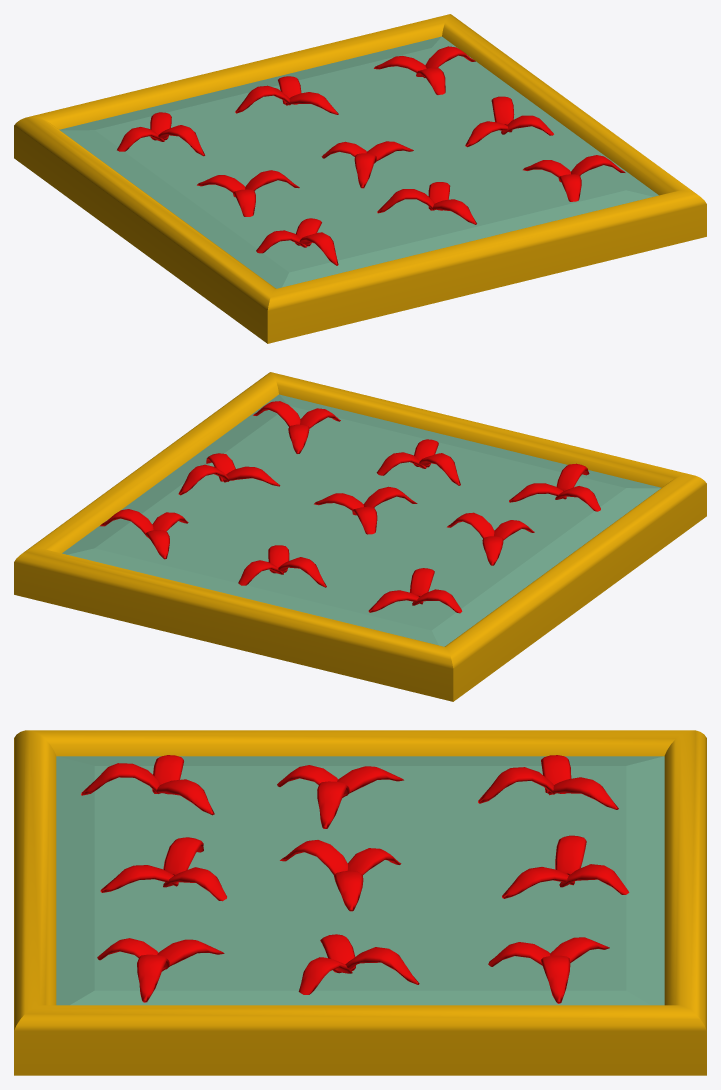
The model's file is Stage_2.fbx.
3 views of the same model, one above another, from view 1: azimuth 30°, elevation 25°; view 2: azimuth 150°, elevation 25°; view 3: azimuth 270°, elevation 25° (orthographic). The views are drawn at different scales.
Parts seen in each view (by area): view 1: Carrot_Dirt_Stage_2, Carrot_Bed_Stage_2, Leaf_3 (×9), Leaf_1 (×2); view 2: Carrot_Dirt_Stage_2, Carrot_Bed_Stage_2, Leaf_3 (×9), Leaf_1 (×3); view 3: Carrot_Dirt_Stage_2, Carrot_Bed_Stage_2, Leaf_3 (×9), Leaf_1 (×9), Leaf_2 (×9).
Part boxes in pixels (x1,y1,x2,y2): Carrot_Dirt_Stage_2: (59,36,658,288); Carrot_Bed_Stage_2: (14,14,706,343); Leaf_3 (×9): (158,46,625,265); Leaf_1 (×2): (285,92,476,224); Carrot_Dirt_Stage_2: (62,394,661,646); Carrot_Bed_Stage_2: (14,372,706,701); Leaf_3 (×9): (100,401,589,596); Leaf_1 (×3): (223,466,566,612); Carrot_Dirt_Stage_2: (56,756,664,1005); Carrot_Bed_Stage_2: (14,730,706,1075); Leaf_3 (×9): (81,763,586,1003); Leaf_1 (×9): (100,766,618,973); Leaf_2 (×9): (97,755,629,994).
Size of the model in its own units: 4.24 by 0.5241 by 4.24.
